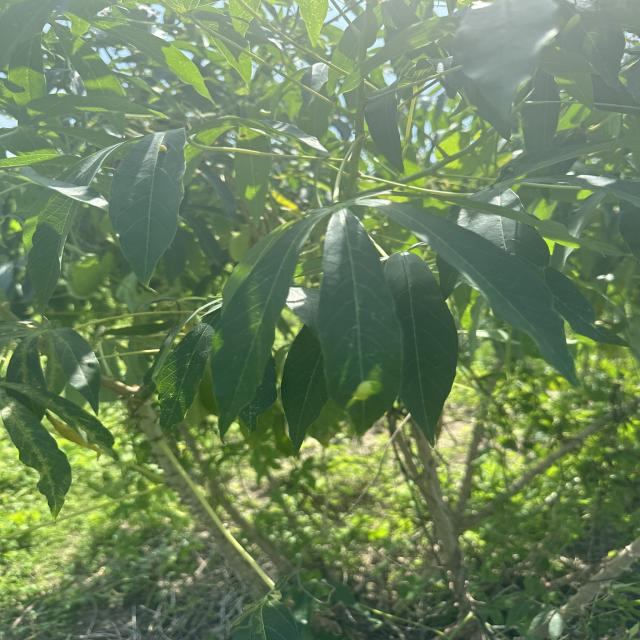Maleza: (496, 383, 640, 570)
Mosca: (147, 136, 180, 162)
